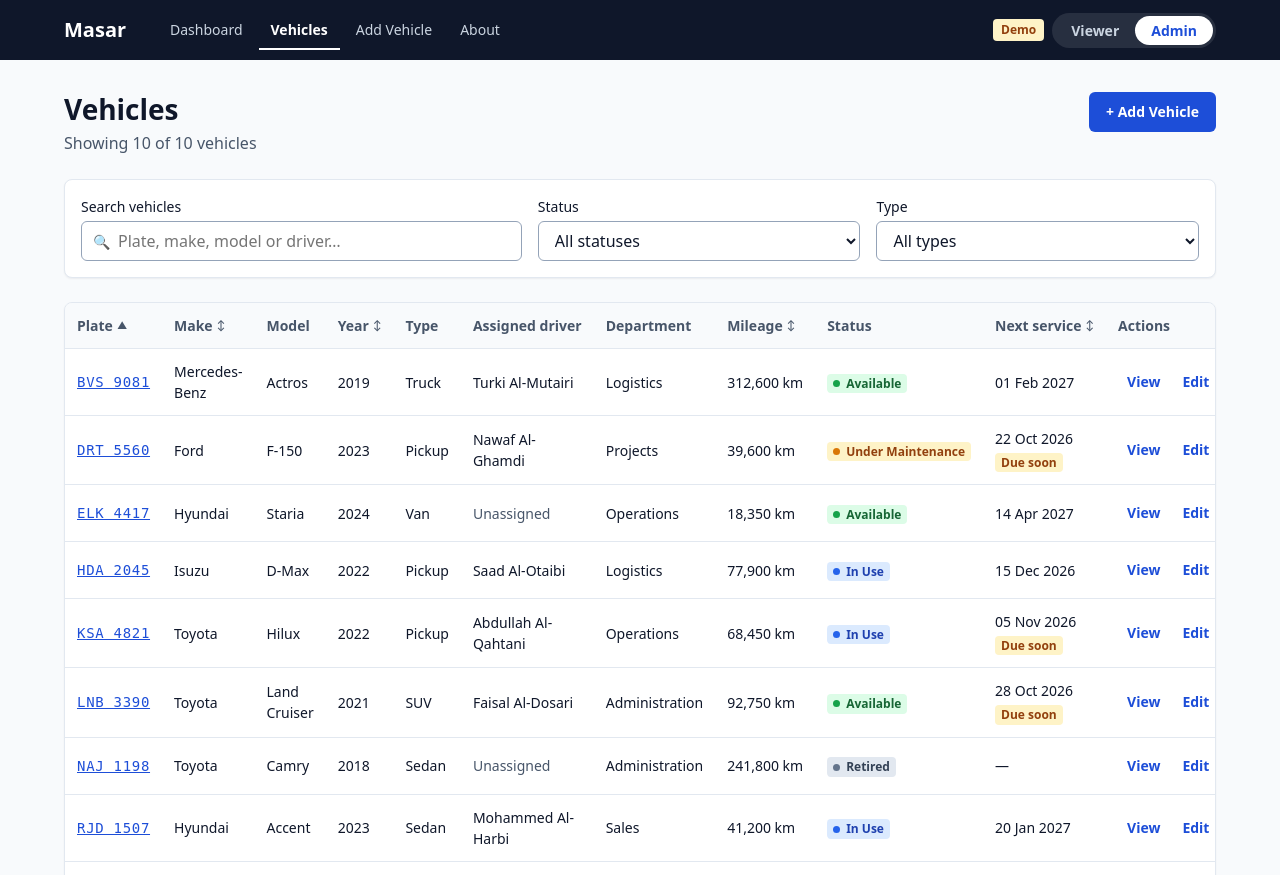
Test: Roles (US-10) › Viewer sees no Add, Edit or Delete controls (AC-10.2)
The width and height of the screenshot is (1280, 875).
Expected: the text "Showing 10 of 10 vehicles" is shown, [64,131,257,155]
Click the radio button labelled "Viewer": (1095, 30) [1071,20,1119,40]
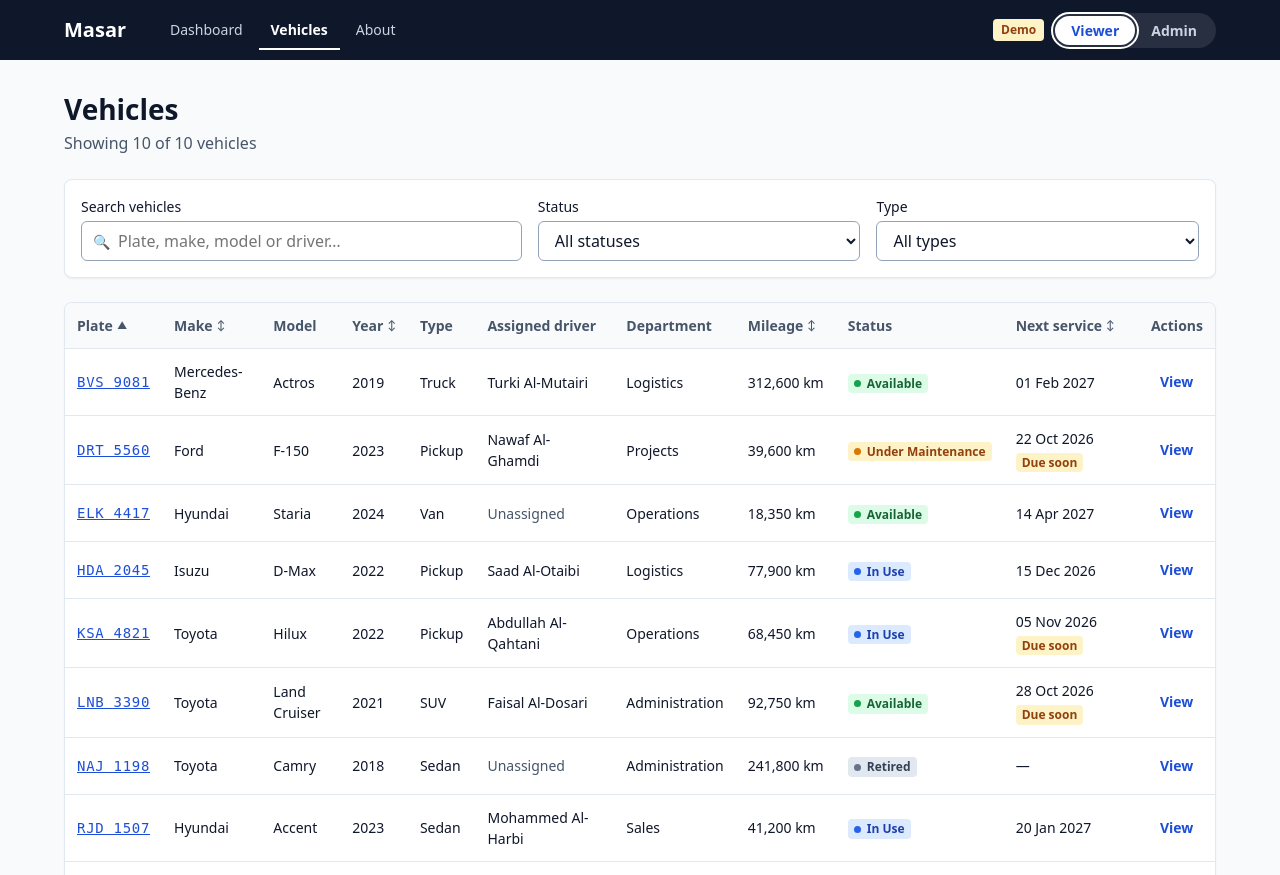
Expected: the button "Delete KSA" is not shown
Expected: the link "Add Vehicle" is gone
Expected: the link "Edit" is gone
